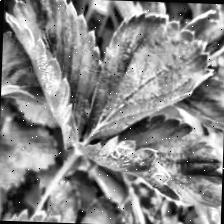Powdery Mildew Leaf: (84, 10, 216, 146), (0, 0, 106, 150), (68, 109, 224, 208)
